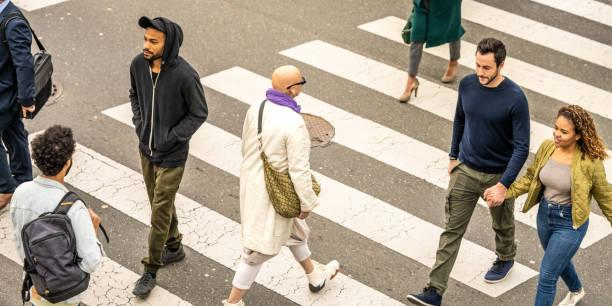coat: (236, 97, 320, 253), (407, 0, 468, 49)
jacket: (126, 16, 210, 167), (7, 176, 103, 303), (504, 137, 612, 229), (0, 2, 37, 109)
sweater: (450, 73, 531, 189)
trousers: (425, 158, 517, 297), (533, 196, 590, 306), (138, 147, 184, 275), (0, 108, 34, 195), (407, 36, 462, 77)
vest: (538, 158, 574, 207)
